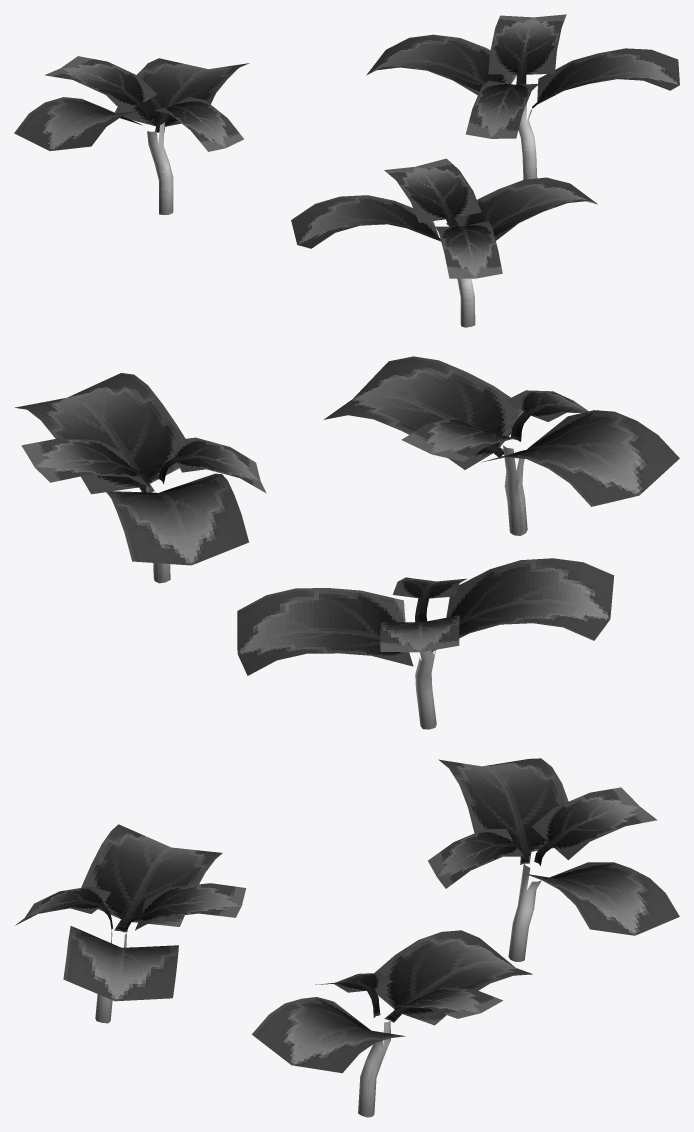
The model's file is PltFlwRoseSeedling.glb.
3 renders of one model, top to bottom at view 1: azimuth 30°, elevation 25°; view 2: azimuth 150°, elevation 25°; view 3: azimuth 270°, elevation 25°, orthographic. The views are drawn at different scales.
Visible parts, largest first — view 1: leaf2__mRoseLeaf; view 2: leaf2__mRoseLeaf; view 3: leaf2__mRoseLeaf.
Part boxes in pixels (x1,y1,x2,y2): leaf2__mRoseLeaf: (14,14,679,327); leaf2__mRoseLeaf: (15,356,679,729); leaf2__mRoseLeaf: (15,758,679,1117).
Size of the model in its own units: 9.34 by 2.15 by 8.51.
1 material, 1 textured.
